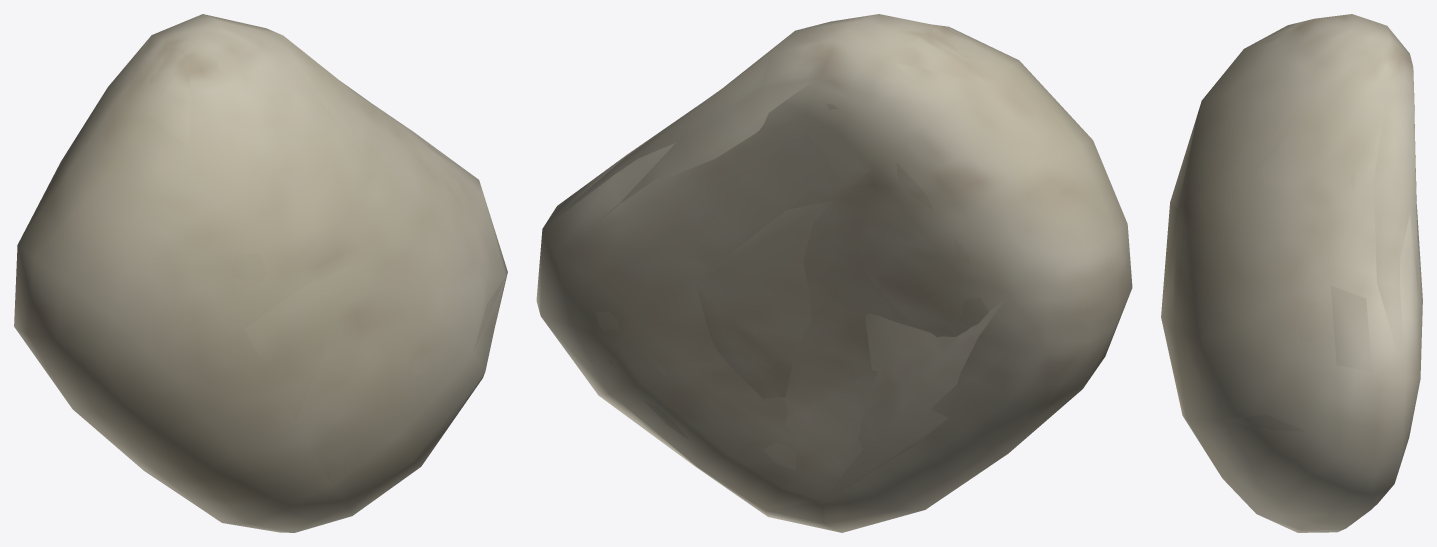
File: L Patella.fbx
3 views of the same model, side by side, from view 1: azimuth 30°, elevation 25°; view 2: azimuth 150°, elevation 25°; view 3: azimuth 270°, elevation 25° (orthographic). The views are drawn at different scales.
Visible parts, largest first — view 1: L Patella, L Patella low, L Patella high; view 2: L Patella, L Patella low, L Patella high; view 3: L Patella, L Patella low, L Patella high.
Part boxes in pixels (left/top/right/bottom): L Patella: left=14, top=14, right=507, bottom=532; L Patella low: left=95, top=17, right=504, bottom=483; L Patella high: left=150, top=62, right=490, bottom=405; L Patella: left=536, top=14, right=1132, bottom=532; L Patella low: left=540, top=24, right=1088, bottom=529; L Patella high: left=596, top=37, right=988, bottom=506; L Patella: left=1161, top=14, right=1422, bottom=532; L Patella low: left=1161, top=19, right=1420, bottom=532; L Patella high: left=1182, top=36, right=1371, bottom=464.
Bounding box in the file's own units: 1.13 × 1.05 × 0.5461.
1 material, 1 textured.
